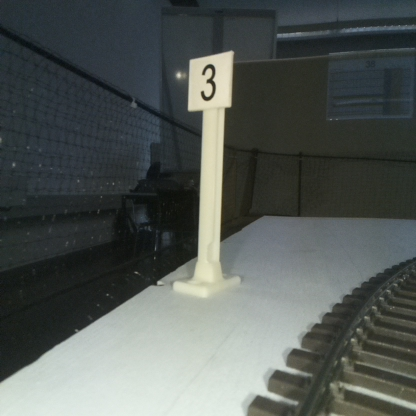white-info-3: (188, 50, 232, 290)
